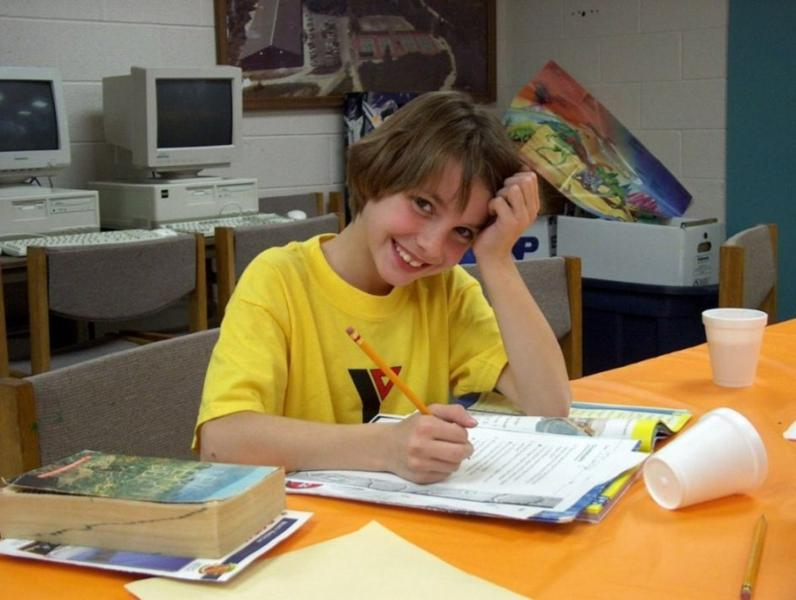person: (201, 91, 577, 487)
